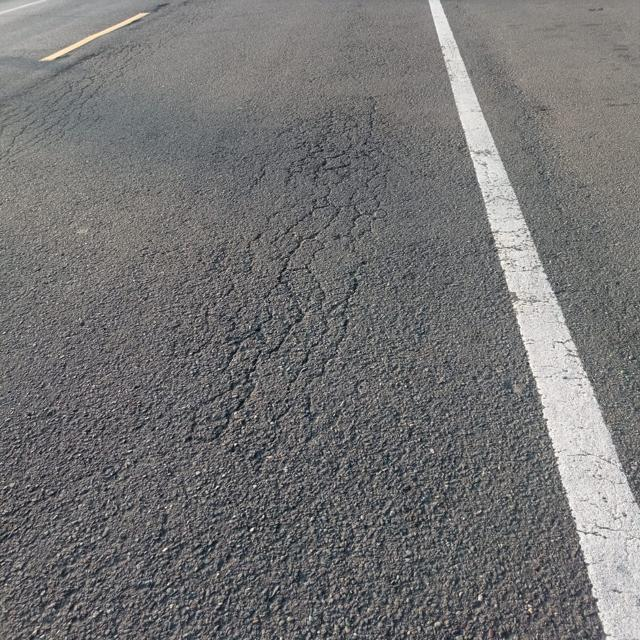Retak Buaya: (181, 108, 396, 460)
